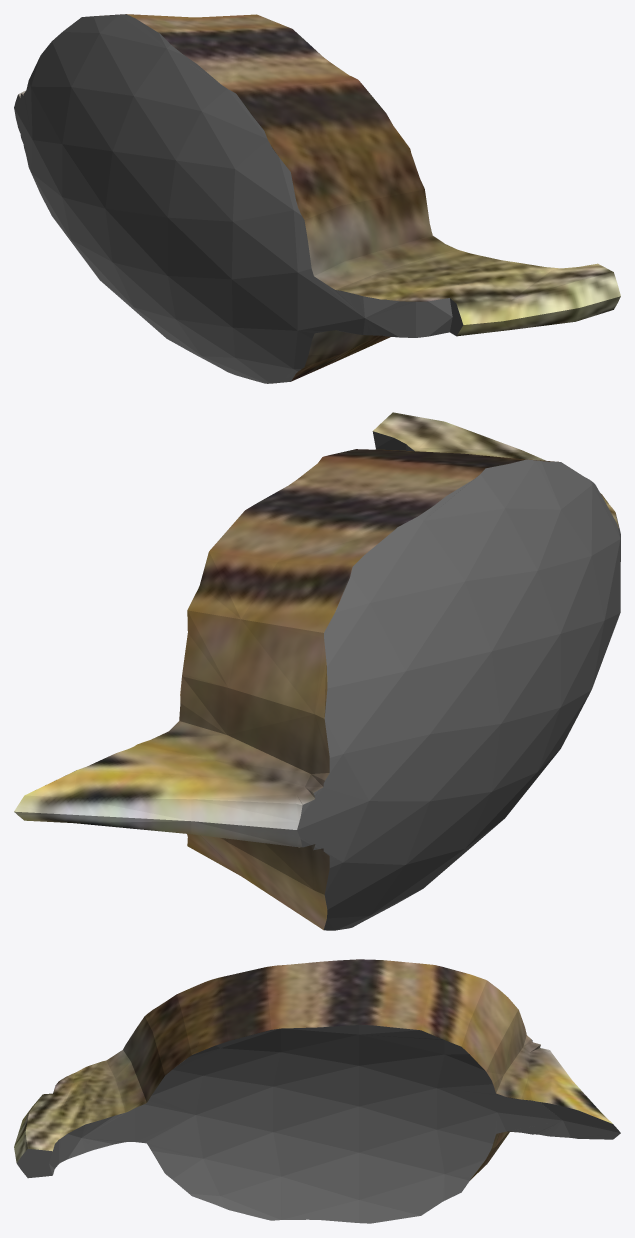
3 renders of one model, top to bottom at view 1: azimuth 30°, elevation 25°; view 2: azimuth 150°, elevation 25°; view 3: azimuth 270°, elevation 25°, orthographic. The views are drawn at different scales.
Parts seen in each view (by area): view 1: link_8_visual; view 2: link_8_visual; view 3: link_8_visual.
Boxes of the visible parts, box(x1,y1,x2,y2) form: link_8_visual: box(14, 14, 620, 383); link_8_visual: box(14, 412, 620, 930); link_8_visual: box(14, 959, 620, 1223).
Bounding box in the file's own units: 0.00175 × 0.00167 × 0.00395.
1 material, 1 textured.
